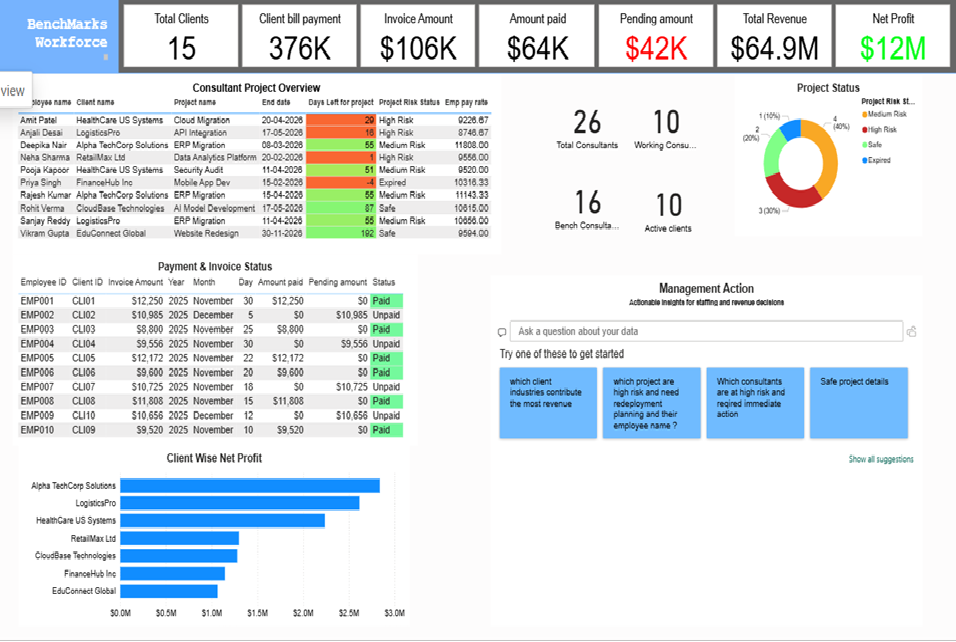

This screenshot's page, from the dashboard's own definition file:
{"tool":"powerbi","page":{"name":"Staffing Executive portfolio","canvas":[1920,1080],"ordinal":5},"visuals":[{"type":"cardVisual","fields":{"Data":["Measure.Total Clients","Sum(Employees timesheet lookup.Client bill payment )","Sum(Invoice&payments.Invoice Amount)","Sum(Invoice&payments.Amount paid)","Sum(Invoice&payments.Pending amount )","Measure.Total Revenue","Measure.Net Profit"]},"box":[242.5,0,1677.5,125],"z":0},{"type":"tableEx","title":"Consultant Project Overview ","fields":{"Values":["Employees details.Employee name ","Clients.Client name","project details.Project name ","Employees details.End date ","project details.Days Left for project ","project details.Project Risk Status","Avg(Employees timesheet lookup.Employeer pay rate )"]},"box":[30,130,975,297.5],"z":1000},{"type":"donutChart","title":" Project Status","fields":{"Category":["project details.Project Risk Status"],"Y":["Measure.Working Consultants"]},"box":[1472.5,130,375,267.5],"z":2000},{"type":"card","fields":{"Values":["Measure.Bench Consultants"]},"box":[1102.5,280,150,125],"z":3000},{"type":"card","fields":{"Values":["Measure.Active clients"]},"box":[1260,280,157.5,125],"z":4000},{"type":"card","fields":{"Values":["Measure.Working Consultants"]},"box":[1260,145,157.5,125],"z":5000},{"type":"card","fields":{"Values":["Measure.Total Consultants"]},"box":[1102.5,145,150,125],"z":6000},{"type":"tableEx","title":"Payment & Invoice Status ","fields":{"Values":["Employees details.Employee ID","Clients.Client ID","Invoice&payments.Invoice Amount","Invoice&payments.Invoice Date.Variation.Date Hierarchy.Year","Invoice&payments.Invoice Date.Variation.Date Hierarchy.Month","Invoice&payments.Invoice Date.Variation.Date Hierarchy.Day","Invoice&payments.Amount paid","Invoice&payments.Pending amount ","Invoice&payments.Status"]},"box":[30,427.5,810,320],"z":7000},{"type":"clusteredBarChart","title":"Client Wise Net Profit ","fields":{"Category":["Clients.Client name"],"Y":["Measure.Net Profit"]},"box":[42.5,747.5,782.5,302.5],"z":8000},{"type":"qnaVisual","title":"Management Action ","box":[984,464,864,586],"z":9000},{"type":"textbox","title":"BenchMarks  Workforce","box":[30,27.5,195,80],"z":10000}]}

Visuals, with their boxes on the page's 1920x1080 design canvas (x1, y1, x2, y2). These are canvas units, not pixel positions in the 956x642 screenshot, which may show the page scaled, cropped or inside an application window:
cardVisual - Measure.Total Clients x Sum(Employees timesheet lookup.Client bill payment ): 242:0:1920:125
"Consultant Project Overview " tableEx: 30:130:1005:428
" Project Status" donutChart: 1472:130:1848:398
card - Measure.Bench Consultants: 1102:280:1252:405
card - Measure.Active clients: 1260:280:1418:405
card - Measure.Working Consultants: 1260:145:1418:270
card - Measure.Total Consultants: 1102:145:1252:270
"Payment & Invoice Status " tableEx: 30:428:840:748
"Client Wise Net Profit " clusteredBarChart: 42:748:825:1050
"Management Action " qnaVisual: 984:464:1848:1050
"BenchMarks  Workforce" textbox: 30:28:225:108
